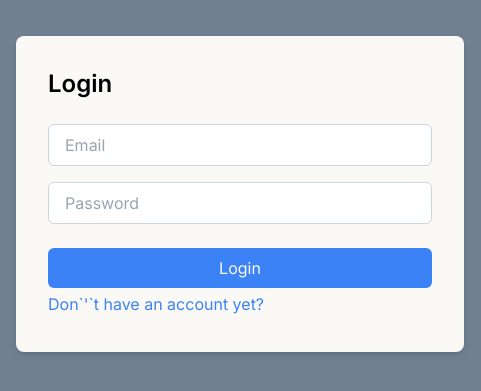
Test: Login Component › displays error message when email is invalid
// Simulate user input of an invalid email
Type "invalid-email" into the field with placeholder "Email" at (240, 145), box [48,124,432,166]
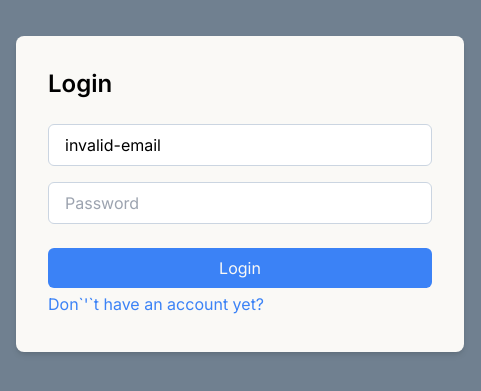
Type "validpassword123" into the password field with placeholder "Password" at (240, 203), box [48,182,432,224]
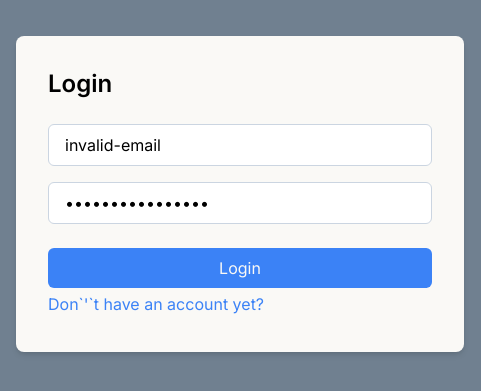
Click the button "Login" at (240, 268), box [48,248,432,288]
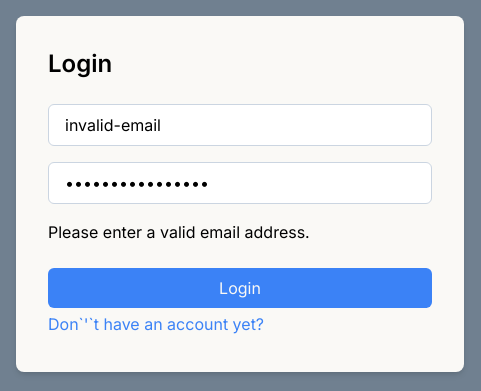
Result: the text "Please enter a valid email address." is shown at [48,222,310,242]
